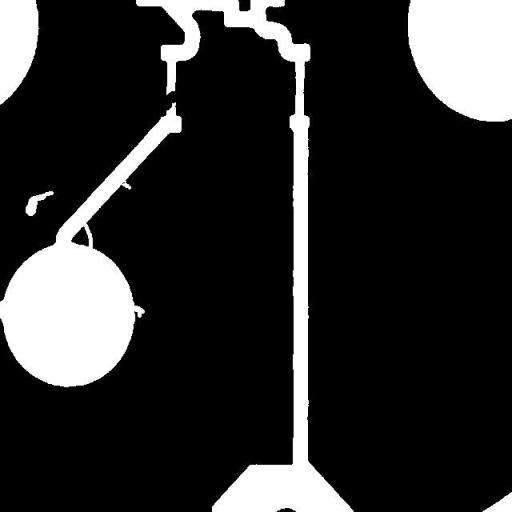mousebite: (122, 297, 152, 325), (110, 170, 138, 197)
open: (72, 213, 100, 256)
pin-hole: (18, 183, 60, 223)
short: (154, 83, 187, 118)
